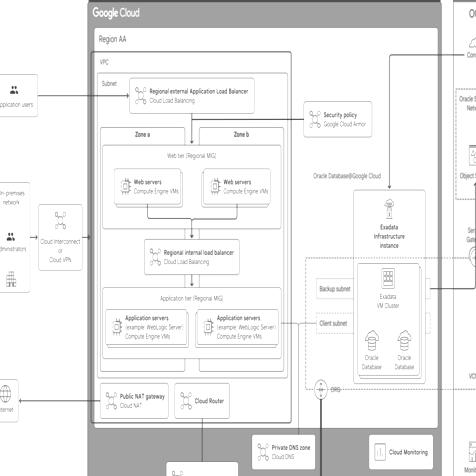actor: (0, 191, 30, 281), (0, 76, 37, 111), (0, 381, 19, 416), (462, 34, 476, 60)
compute: (357, 261, 421, 374), (105, 312, 189, 344), (194, 312, 278, 344), (114, 170, 184, 202), (202, 170, 270, 202)
data_flow: (319, 353, 322, 476), (148, 208, 238, 212), (148, 279, 236, 283), (154, 121, 230, 125), (388, 50, 390, 189), (19, 397, 84, 401), (424, 256, 476, 260), (38, 92, 84, 96), (473, 160, 476, 221), (237, 474, 320, 476), (200, 400, 204, 430), (190, 98, 194, 124), (449, 53, 475, 57), (191, 209, 194, 242), (228, 139, 232, 159), (268, 320, 288, 324), (22, 234, 38, 238), (234, 194, 238, 210), (152, 139, 155, 159), (190, 266, 194, 281), (147, 286, 150, 306), (234, 286, 236, 306), (294, 112, 302, 117), (148, 194, 150, 210), (80, 234, 86, 238)
database_storage: (350, 175, 428, 380), (457, 138, 476, 182)
network_security: (130, 77, 254, 110), (145, 242, 240, 274), (303, 99, 370, 130), (99, 384, 168, 414), (252, 435, 316, 466), (368, 435, 432, 466), (177, 384, 227, 414), (38, 220, 82, 252), (166, 461, 237, 476)
trust_boundary: (86, 3, 443, 476), (94, 58, 290, 450), (98, 79, 286, 443), (101, 100, 283, 436), (100, 130, 184, 370), (199, 130, 283, 370), (106, 144, 278, 220), (106, 278, 278, 354), (451, 3, 476, 476), (454, 211, 476, 426), (454, 88, 476, 201)
